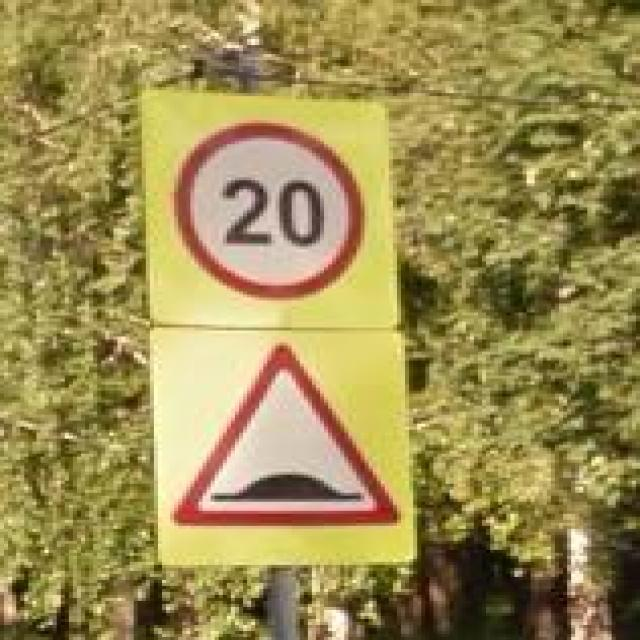Ograniczenie predkosci do 20: (170, 120, 365, 304)
